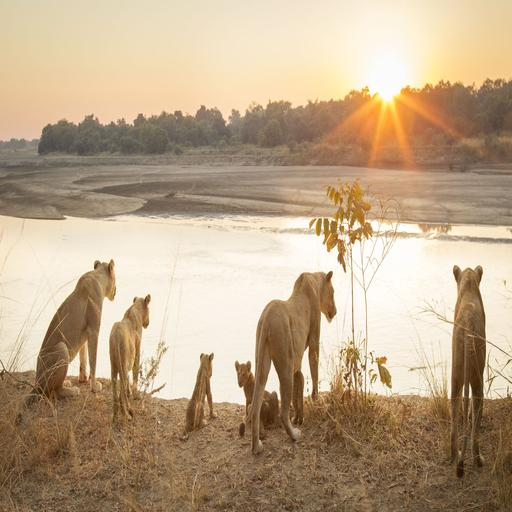Lion: (10, 256, 129, 422), (246, 269, 339, 451), (433, 260, 499, 478), (93, 281, 163, 430), (228, 355, 288, 442), (176, 342, 219, 439)
